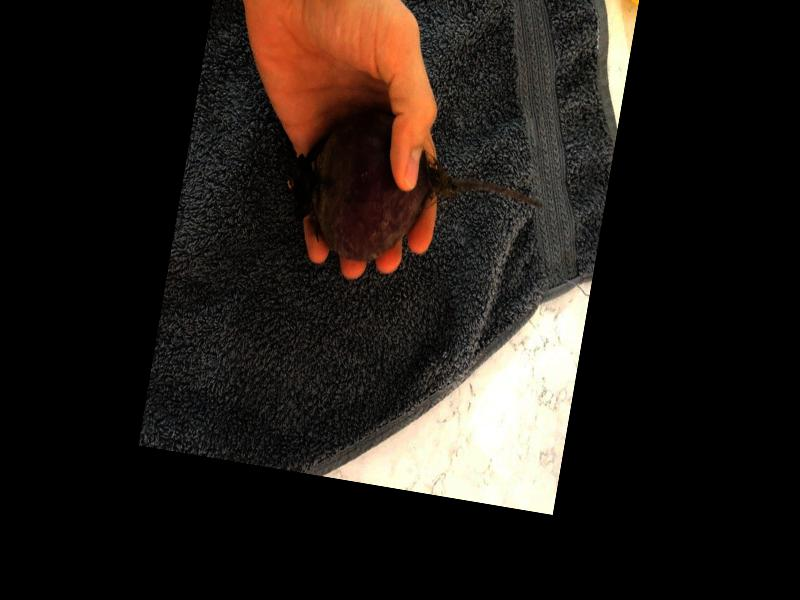Beet: (282, 98, 552, 290)
